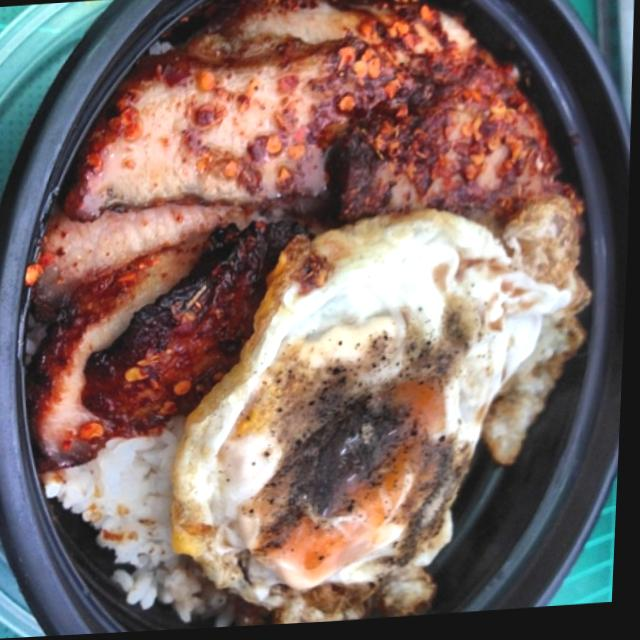猪肉菜式: (6, 0, 604, 639)
